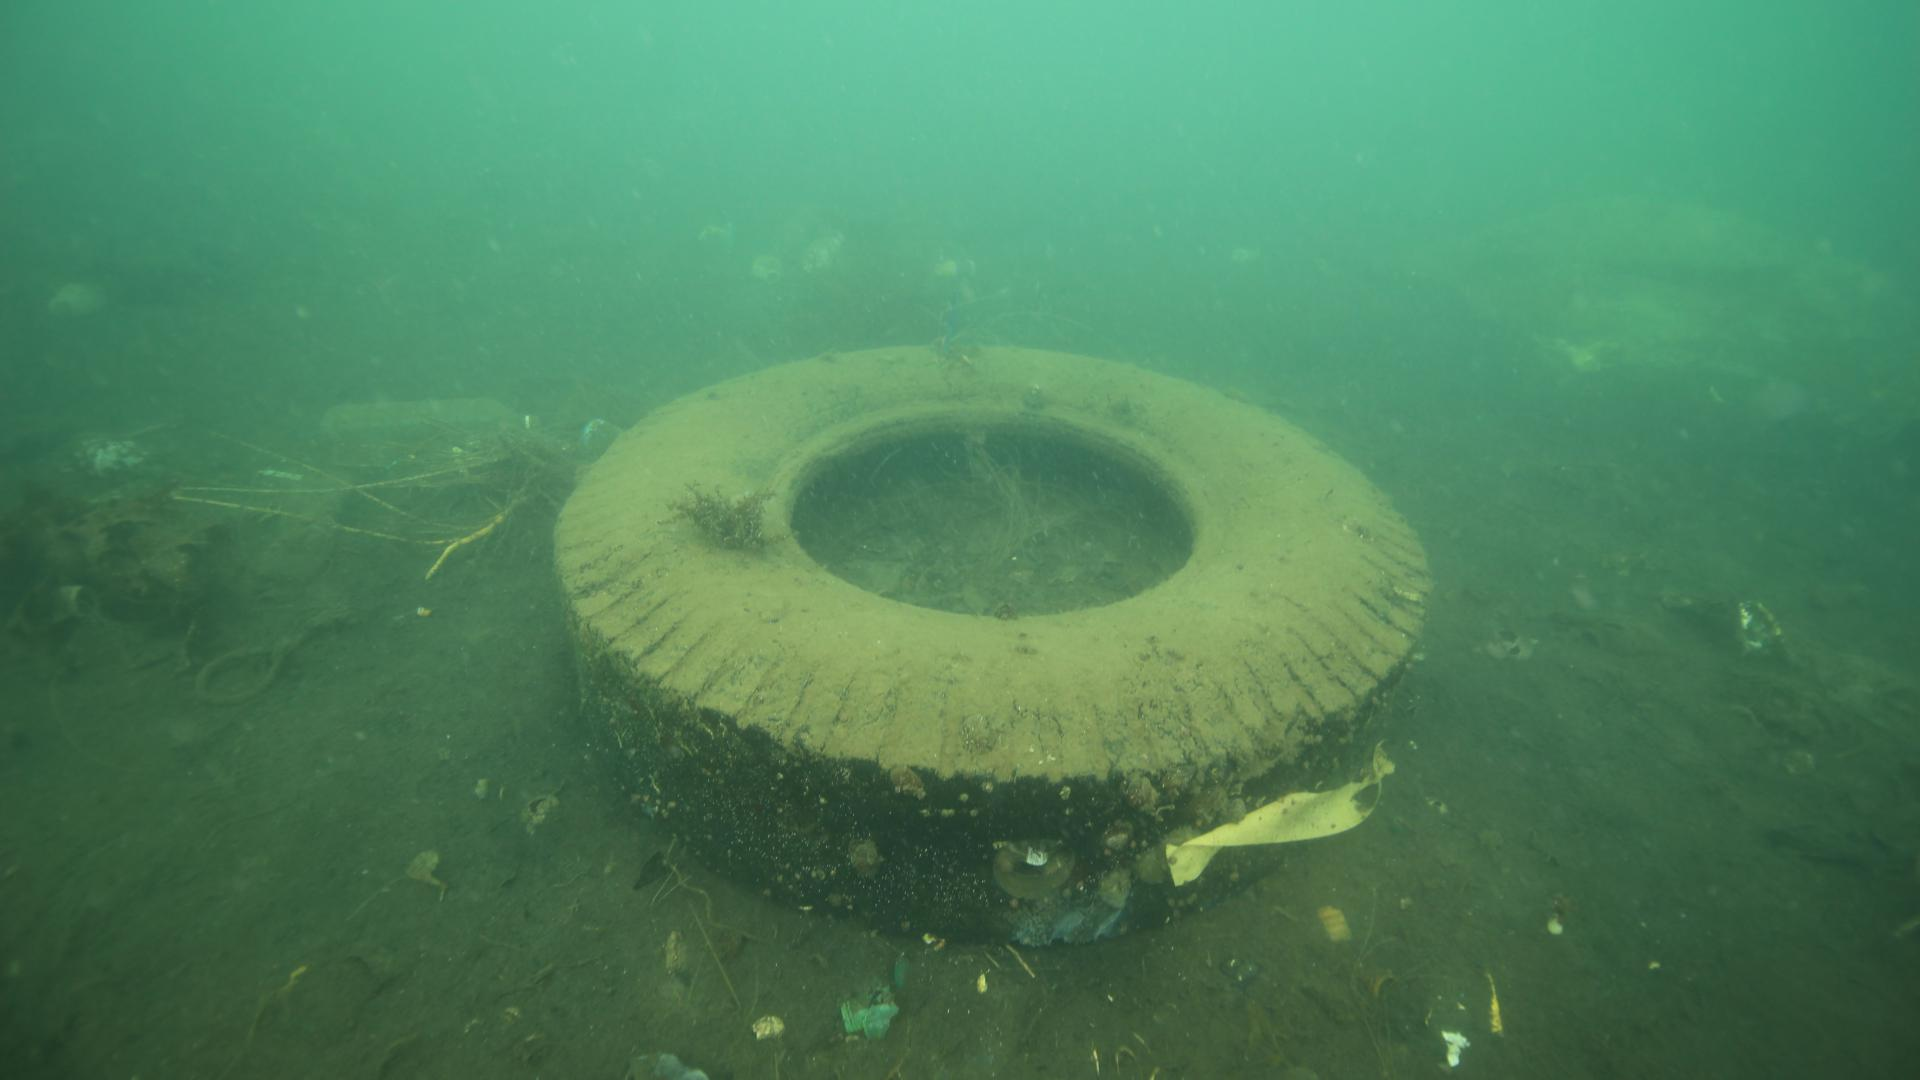tire: (551, 338, 1433, 942)
